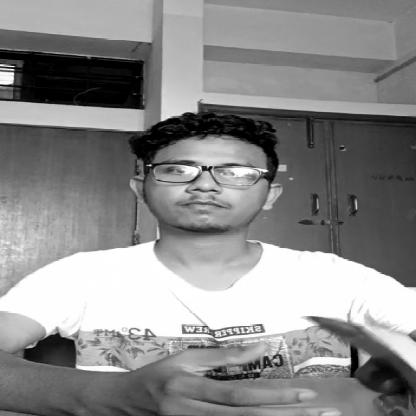Normal: (147, 138, 284, 245)
